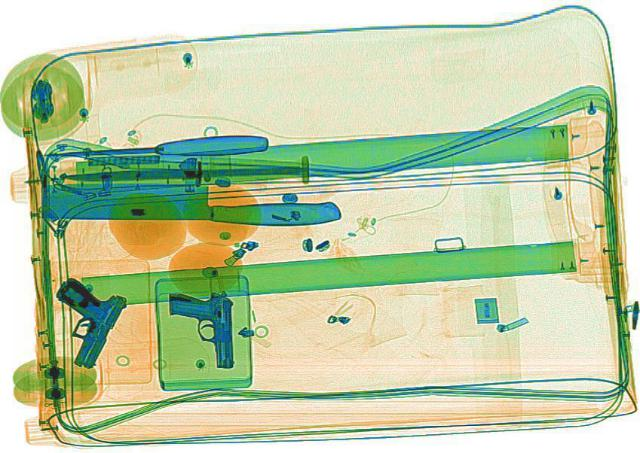Gun: (24, 273, 132, 368), (166, 289, 236, 368)
Knife: (42, 185, 340, 225), (41, 132, 268, 164), (61, 164, 300, 180)
